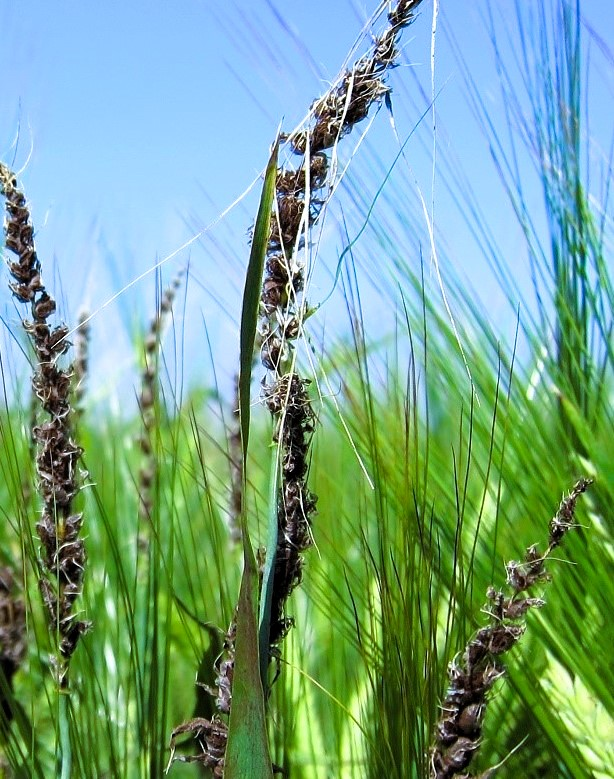Wheat Loose Smut: (427, 486, 601, 767)
